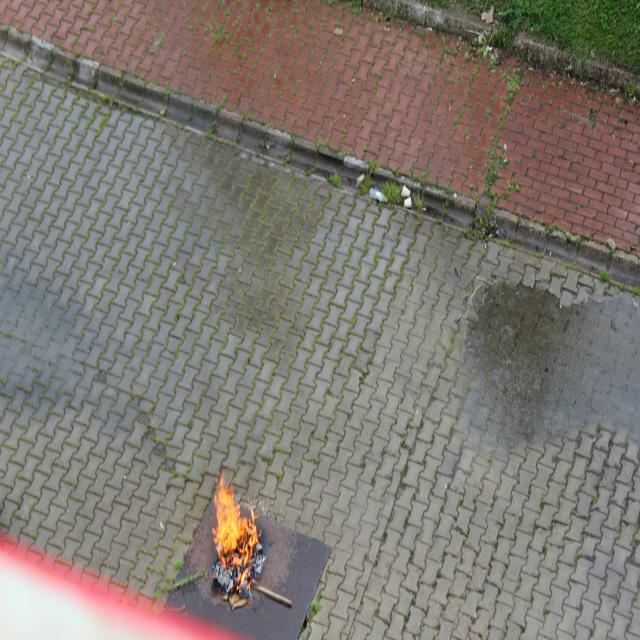fire: (206, 460, 262, 590)
